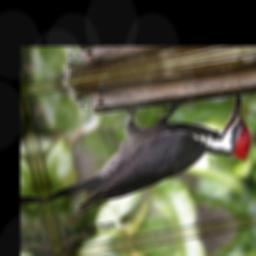Woodpecker: (29, 86, 256, 219)
